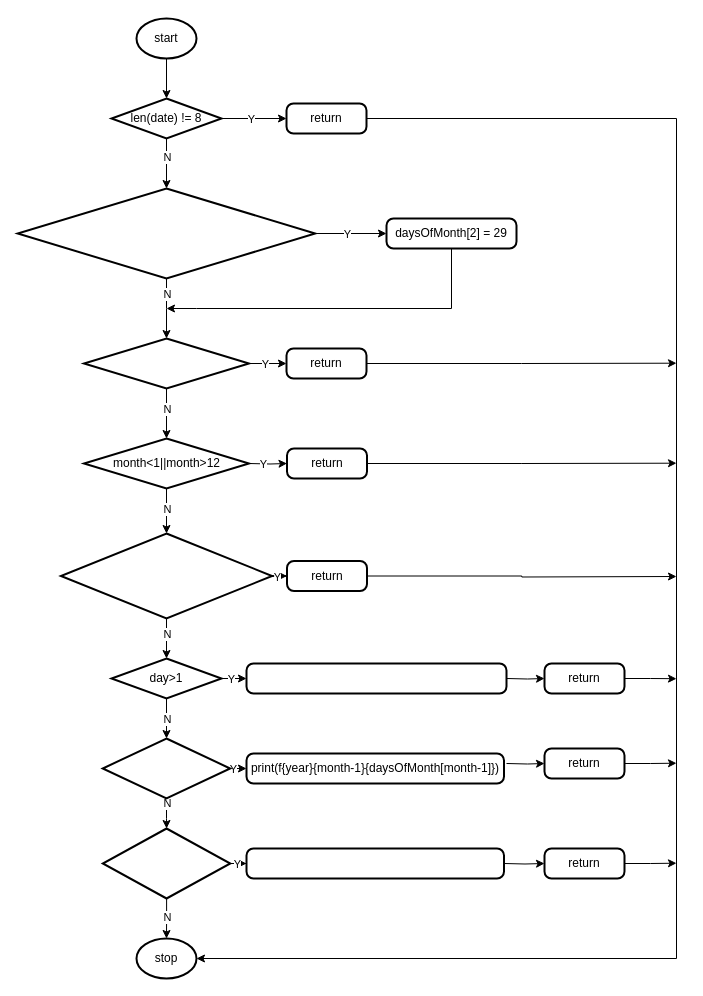
Some shapes in this 703 by 996 pixel diagram are drawn without their labels. Here are the shapes that lost their labels. From the top down, the centre of each, then its label:
(x=166, y=233): (year%4==0&&year%100!=0) || (year%400==0)
(x=166, y=363): year<1000||year>2020
(x=166, y=575): day<1||day>daysOfMonth[month]
(x=376, y=678): print(f{year}{month}{day-1})
(x=166, y=768): day==1&&month>1
(x=166, y=863): day==1&&month==1
(x=374, y=863): print(f{year-1}12{daysOfMonth[12]})
